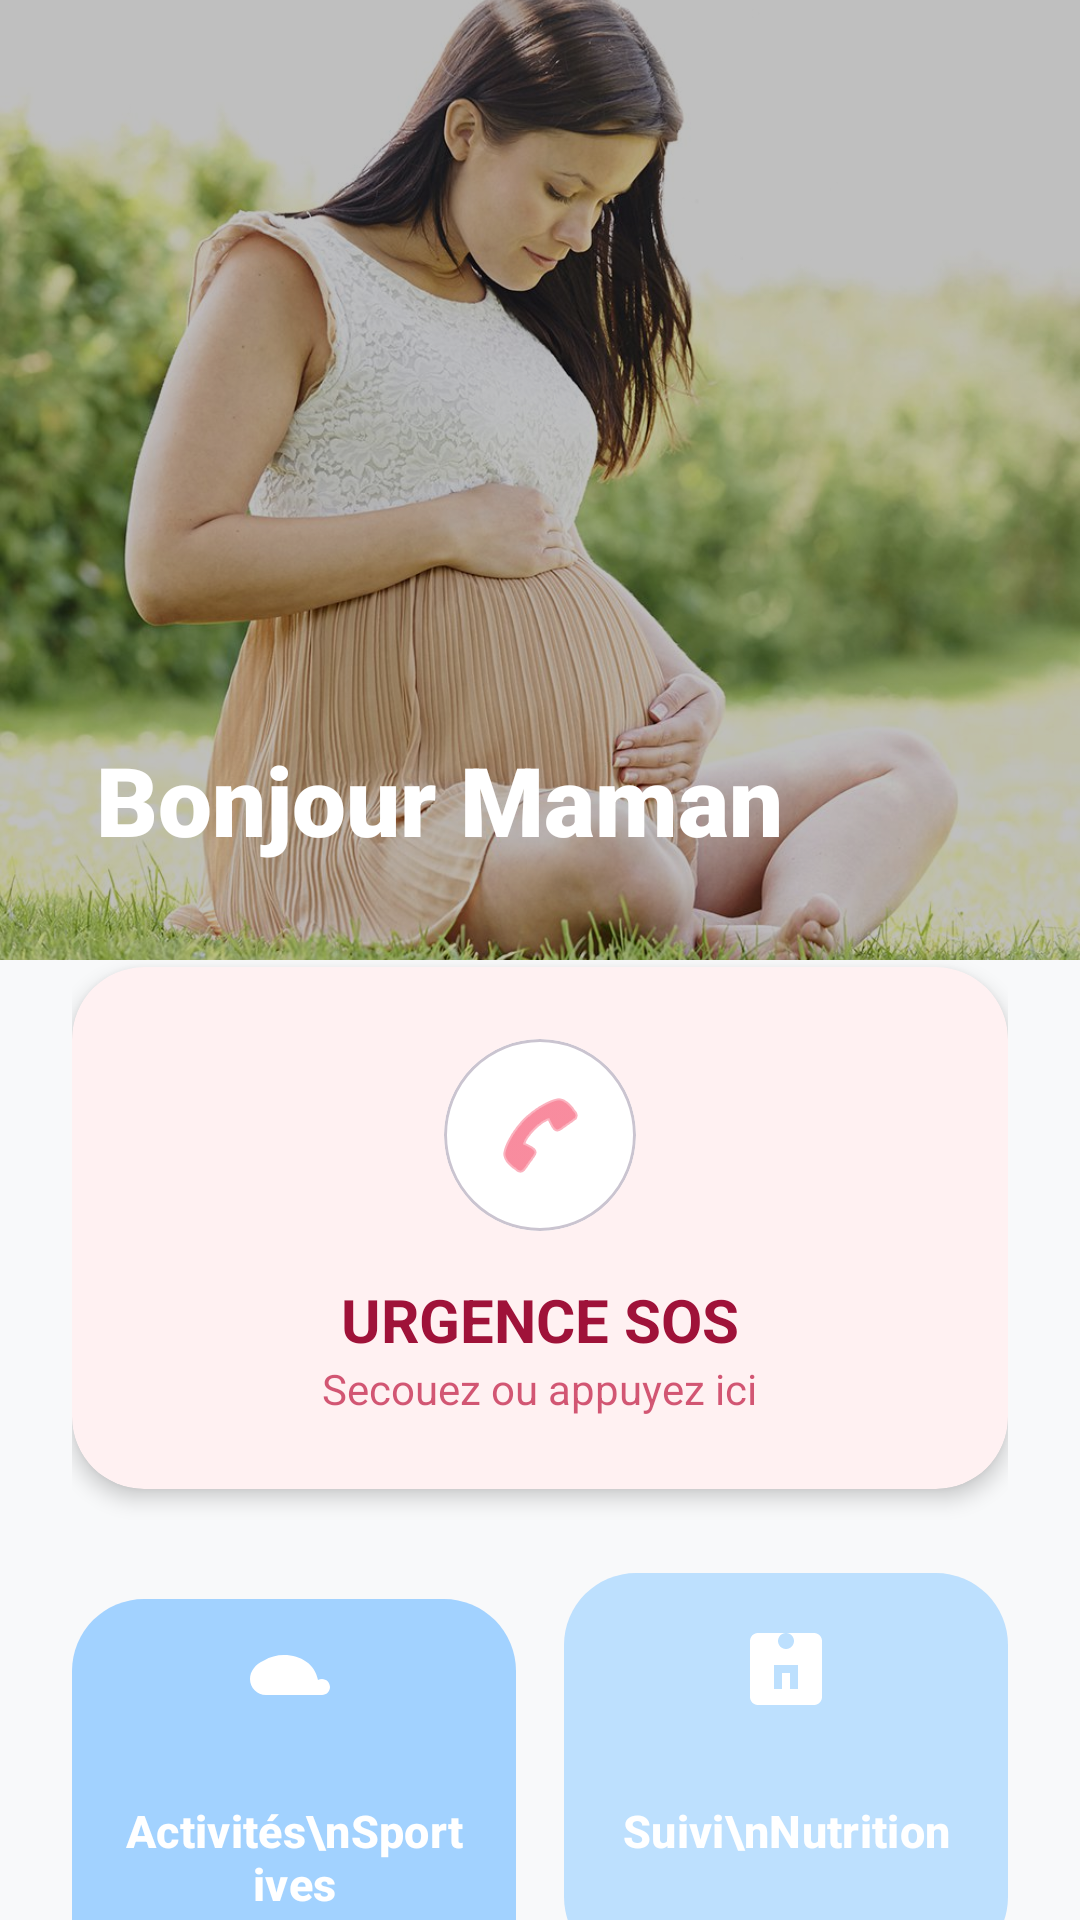

Icons on this 1080 × 1920 Android screen, each with the point to tap as (x=x, y=y):
call: (x=540, y=1135)
